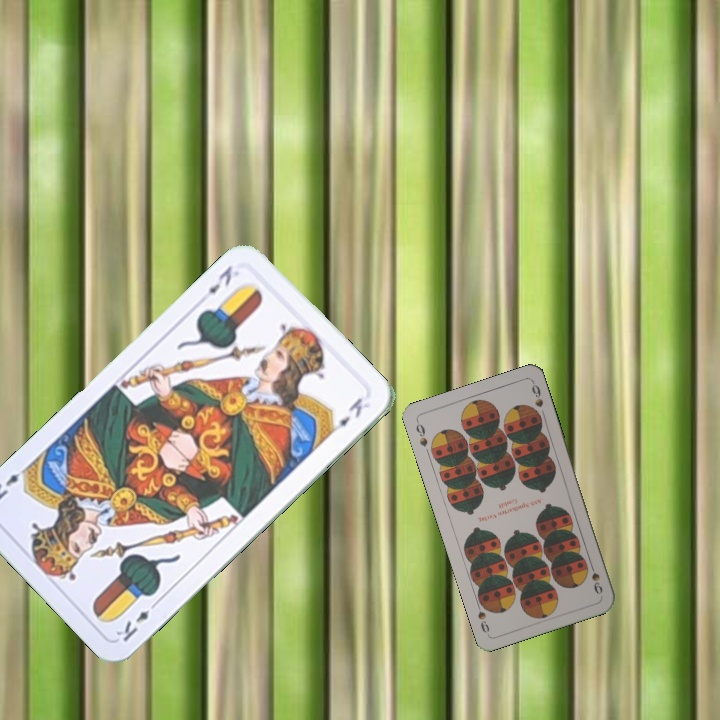EK: (111, 596, 161, 645), (195, 261, 235, 304)
S9: (585, 558, 605, 597), (412, 417, 430, 449)
